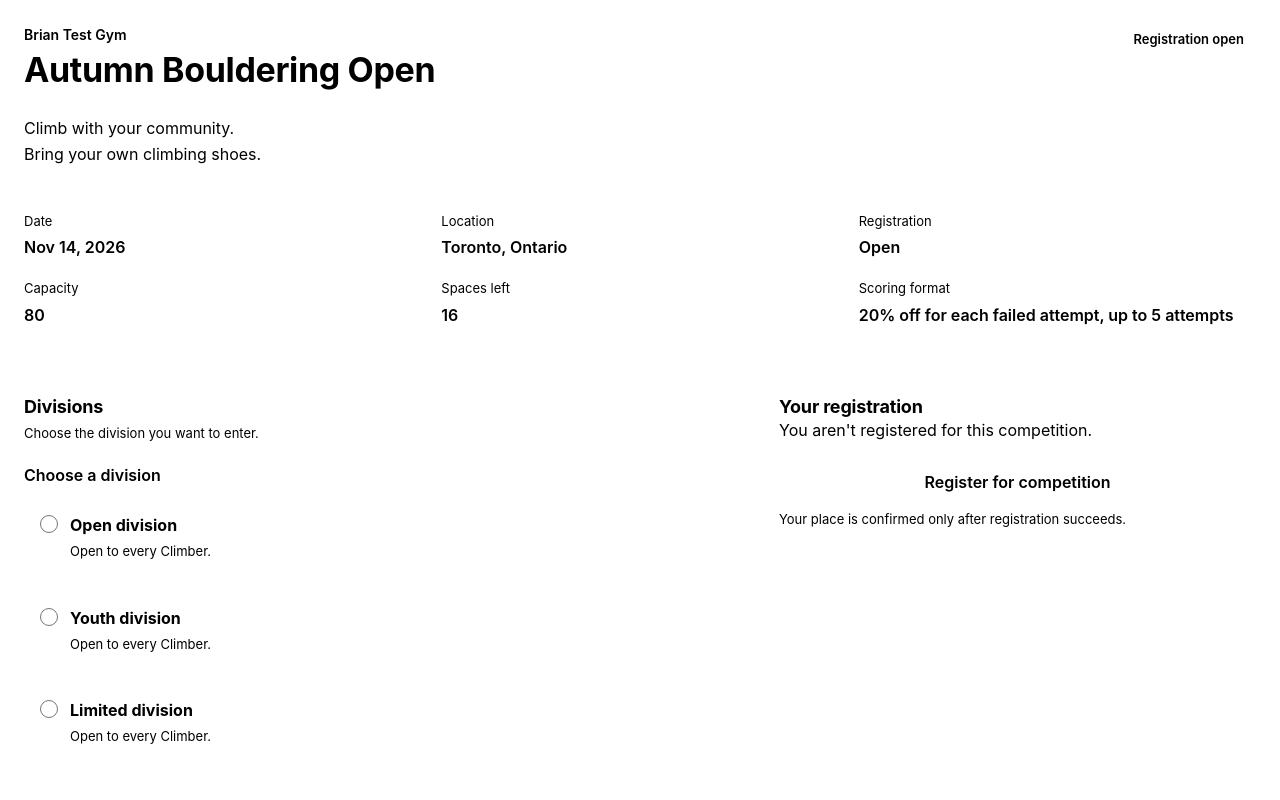
US-028 event layout and division registration (isolated UI fixtures) › does not label a returned WAITLIST registration as confirmed
Click the radio button labelled "Open division" at (49, 524), box [40, 516, 58, 534]
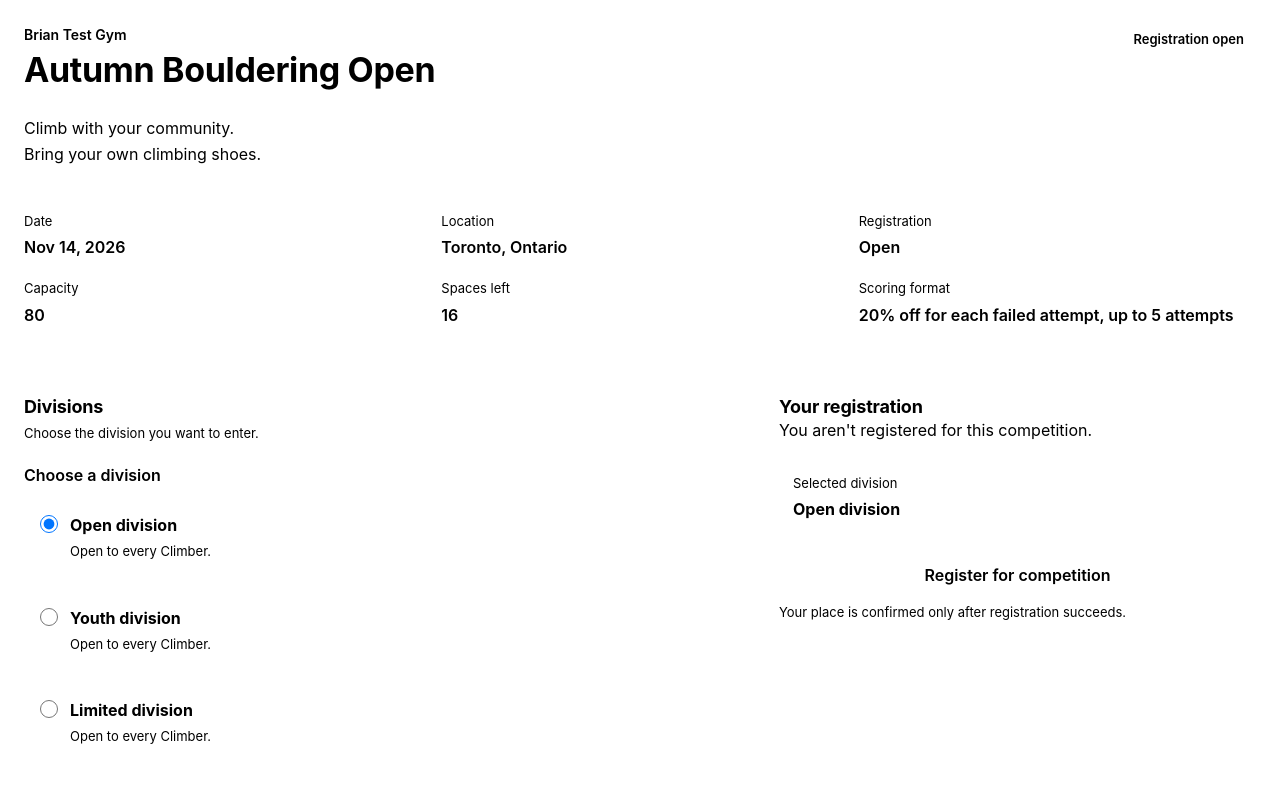
Submit the form named "Competition registration", box [0, 371, 1279, 787]
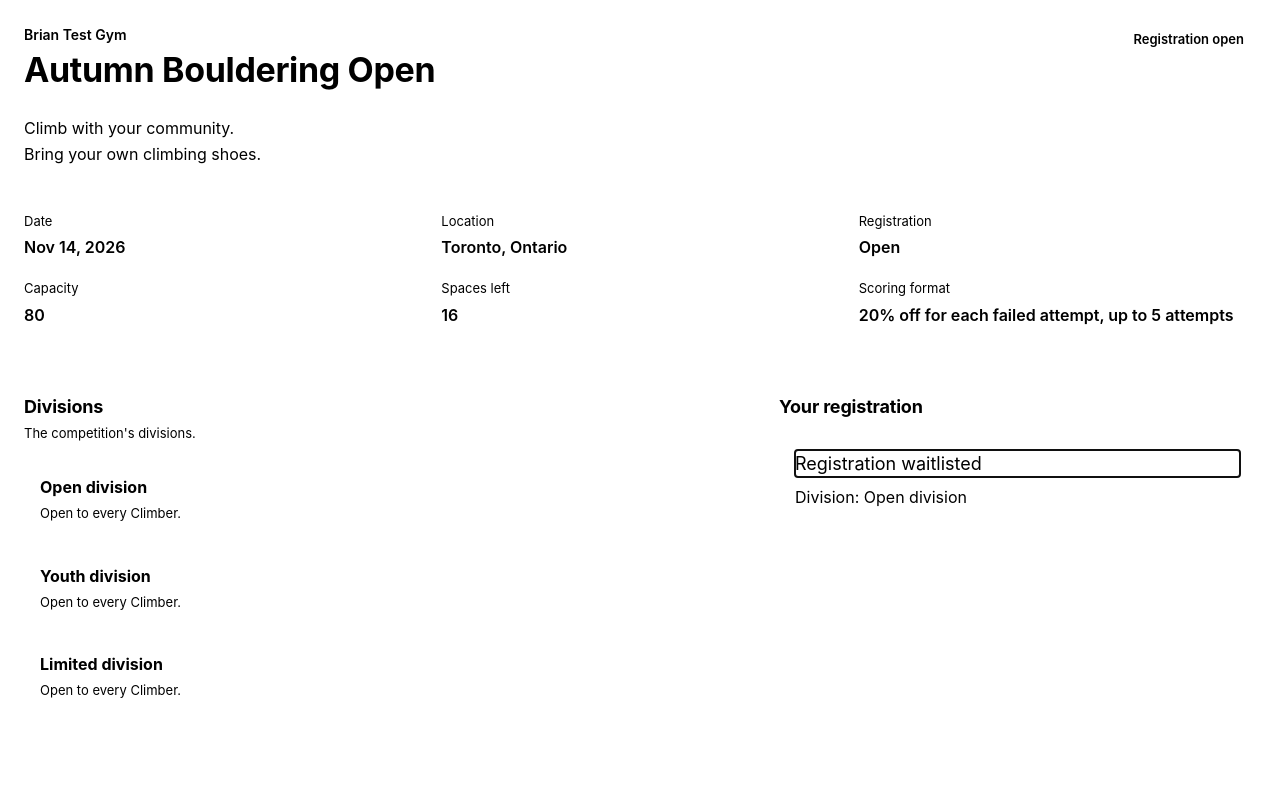
expect the heading "Registration waitlisted" is shown: met, box [795, 453, 982, 474]
